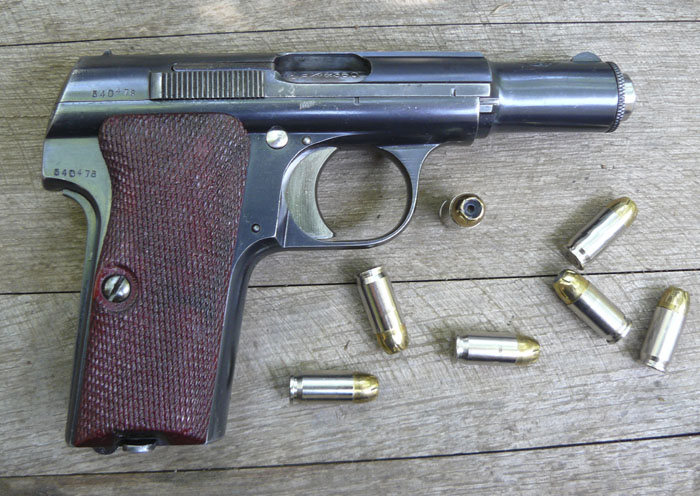gun: (37, 48, 640, 461)
